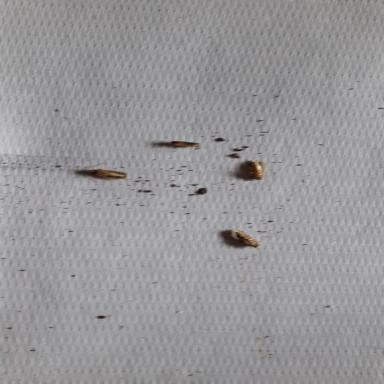pbw: (227, 228, 258, 248), (84, 166, 126, 180), (246, 160, 266, 180), (168, 139, 202, 148)
